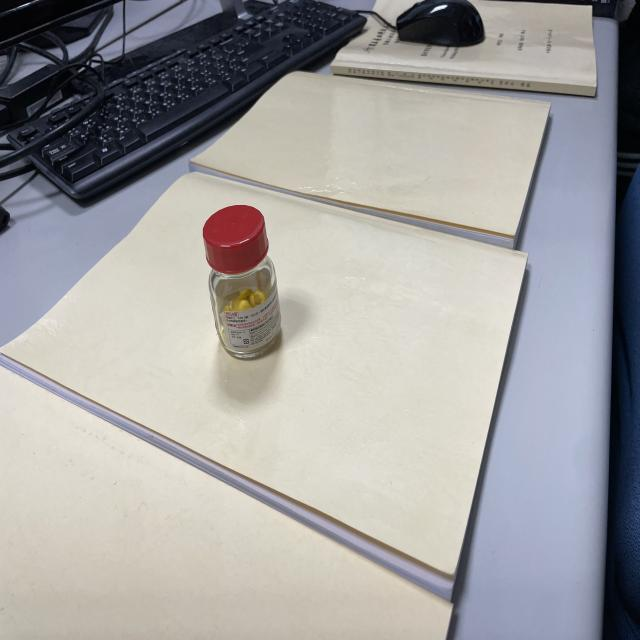Medicine-Jar: (192, 212, 294, 374)
